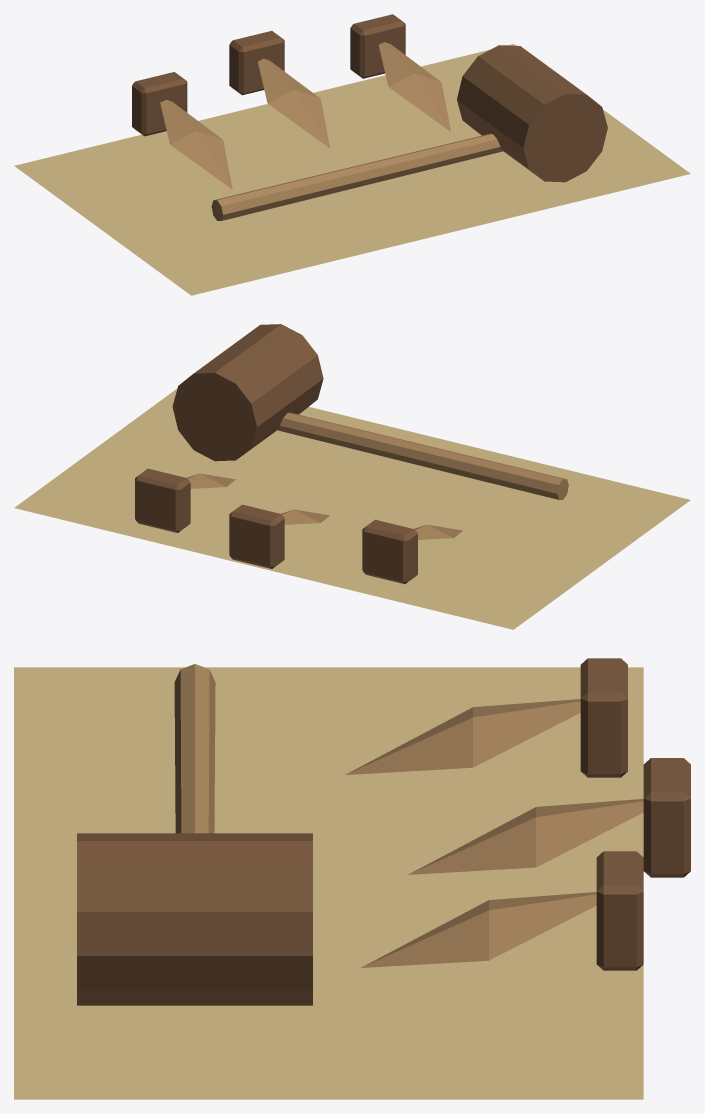
The picture shows the model from 3 angles, top to bottom: view 1: azimuth 30°, elevation 25°; view 2: azimuth 150°, elevation 25°; view 3: azimuth 270°, elevation 25°; orthographic projection. The views are drawn at different scales.
Parts seen in each view (by area): view 1: WW-009 Hardwood wedges and mallet batched; view 2: WW-009 Hardwood wedges and mallet batched; view 3: WW-009 Hardwood wedges and mallet batched.
Part boxes in pixels (left/top/right/bottom): WW-009 Hardwood wedges and mallet batched: left=14, top=14, right=690, bottom=295; WW-009 Hardwood wedges and mallet batched: left=14, top=324, right=690, bottom=629; WW-009 Hardwood wedges and mallet batched: left=14, top=658, right=690, bottom=1099.
Bounding box in the file's own units: 1.3 × 0.232 × 0.86.
